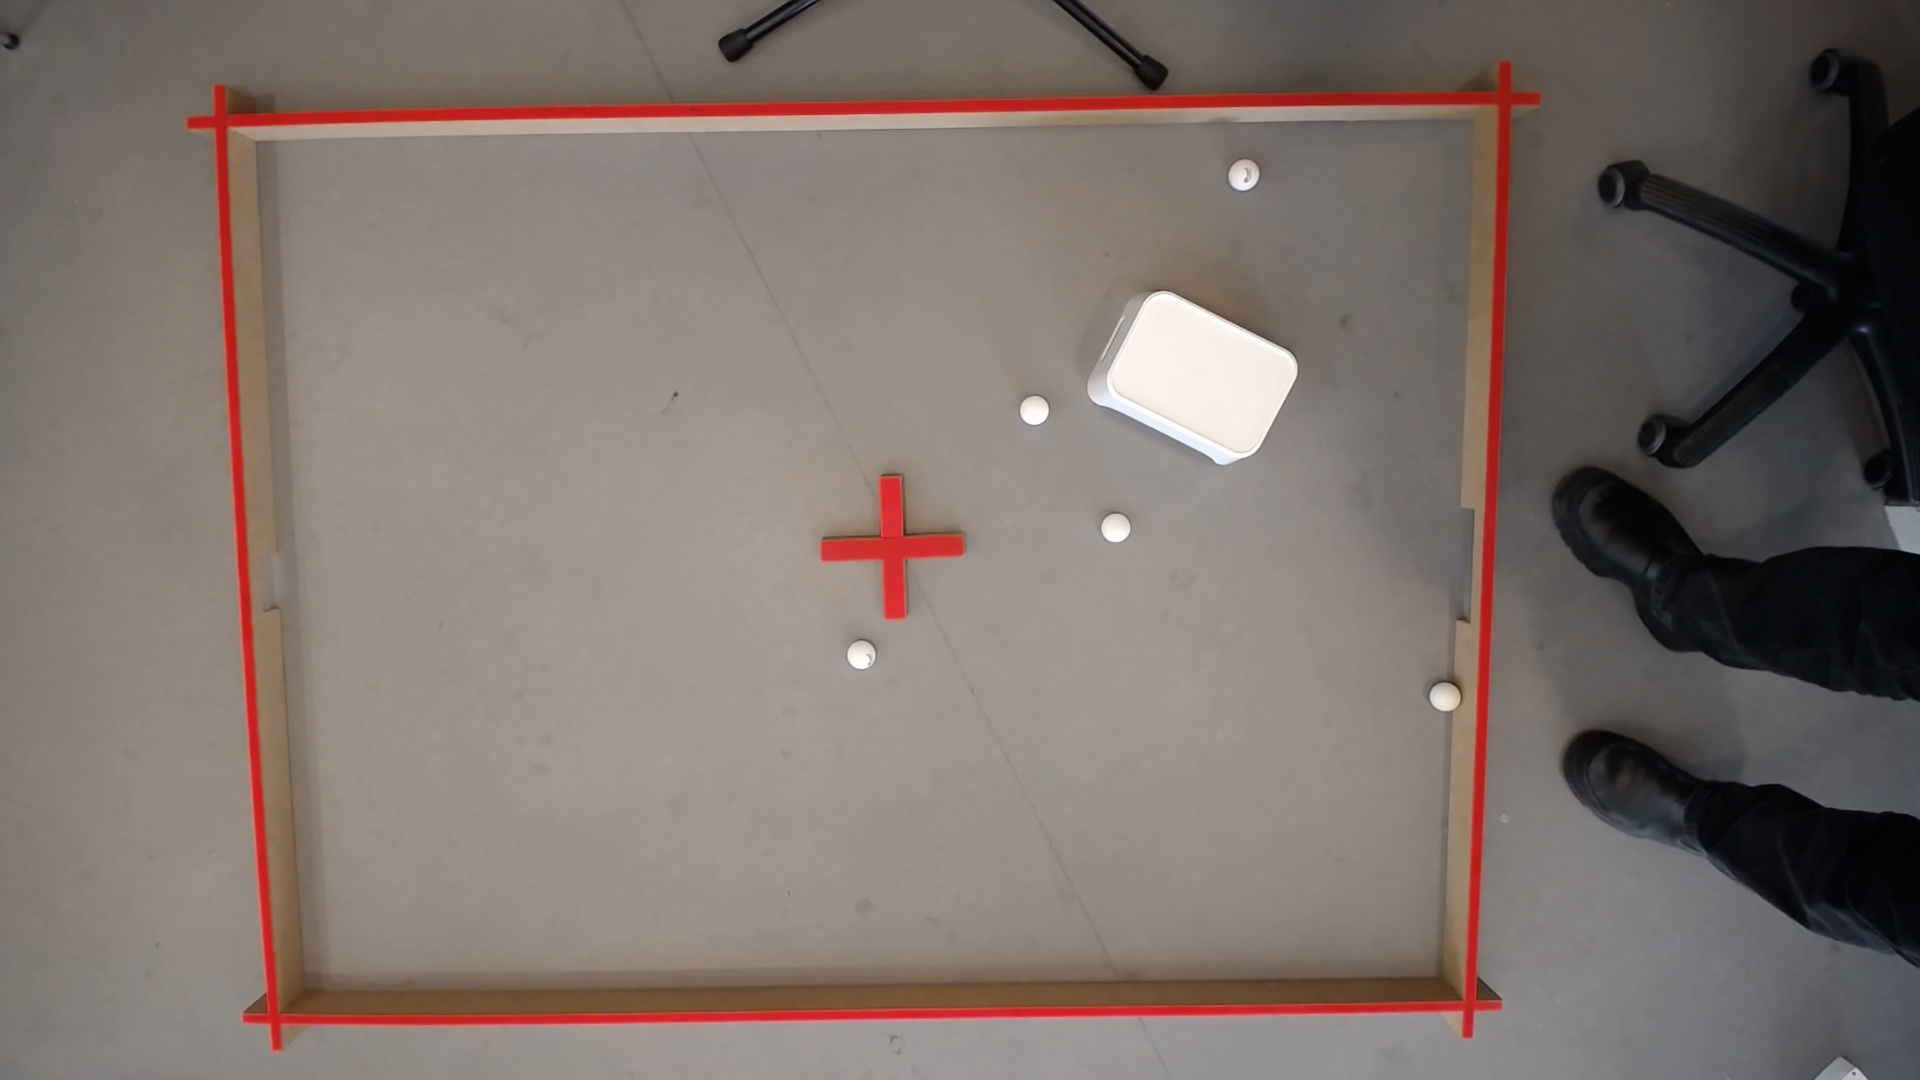balls: (1080, 276, 1305, 477), (1221, 153, 1265, 196), (1423, 676, 1465, 717), (1095, 508, 1135, 547), (1014, 390, 1052, 429)
car: (841, 636, 880, 674)
